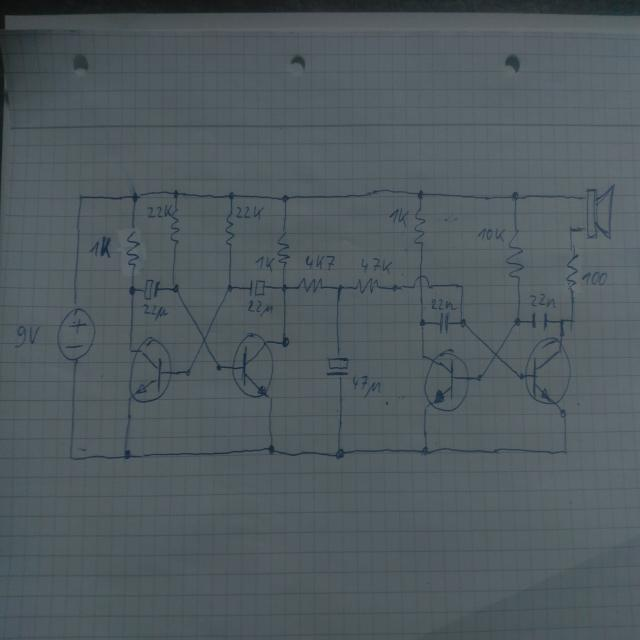capacitor: (326, 356, 350, 377), (530, 310, 548, 332), (248, 278, 266, 298), (144, 277, 160, 299), (438, 311, 449, 334)
crossover: (410, 274, 433, 291), (196, 330, 211, 348), (489, 345, 502, 363)
junction: (121, 446, 132, 461), (509, 190, 520, 205), (335, 447, 345, 460), (559, 407, 569, 420), (281, 336, 290, 350), (475, 371, 484, 384), (567, 223, 576, 236), (267, 444, 276, 456), (421, 445, 430, 457), (459, 317, 468, 329), (513, 316, 522, 328), (557, 316, 566, 328), (418, 316, 426, 329), (416, 189, 424, 201), (171, 284, 180, 294), (125, 396, 134, 406), (390, 284, 399, 294), (128, 285, 136, 296), (227, 283, 235, 294), (281, 192, 289, 203), (421, 407, 429, 418), (558, 329, 566, 340), (568, 316, 576, 327), (185, 366, 192, 378), (228, 190, 235, 202), (171, 189, 180, 198), (132, 192, 140, 202), (215, 363, 223, 373), (336, 284, 344, 294), (457, 283, 465, 293), (562, 447, 569, 458), (68, 453, 76, 462), (266, 396, 274, 405), (420, 352, 427, 362), (518, 371, 524, 382), (280, 283, 288, 291), (78, 193, 85, 202), (127, 345, 133, 353)
resistor: (505, 228, 524, 283), (564, 251, 579, 293), (125, 230, 141, 267), (276, 229, 291, 267), (413, 207, 427, 247), (296, 276, 324, 293), (354, 276, 380, 294), (169, 208, 180, 247), (224, 212, 234, 249)
source: (55, 307, 97, 362)
text: (352, 374, 381, 399), (14, 324, 41, 349), (359, 256, 393, 275), (305, 254, 335, 272), (142, 303, 169, 321), (89, 236, 111, 258), (527, 292, 557, 308), (235, 204, 264, 220), (247, 300, 273, 317), (389, 208, 409, 229), (580, 271, 608, 286), (147, 203, 173, 219), (477, 228, 506, 242), (254, 255, 276, 273), (431, 299, 458, 311)
transistor: (522, 335, 572, 406), (128, 334, 174, 404), (230, 332, 276, 402), (422, 350, 471, 413)
